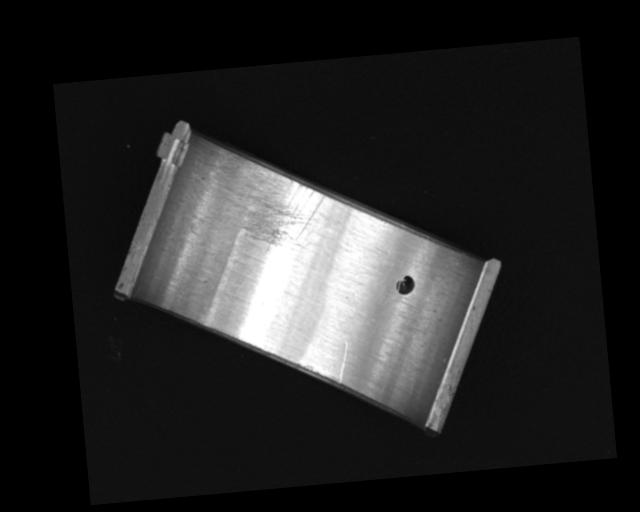blot: (394, 274, 416, 296)
nick: (334, 341, 351, 382)
scratch: (221, 143, 329, 256)
